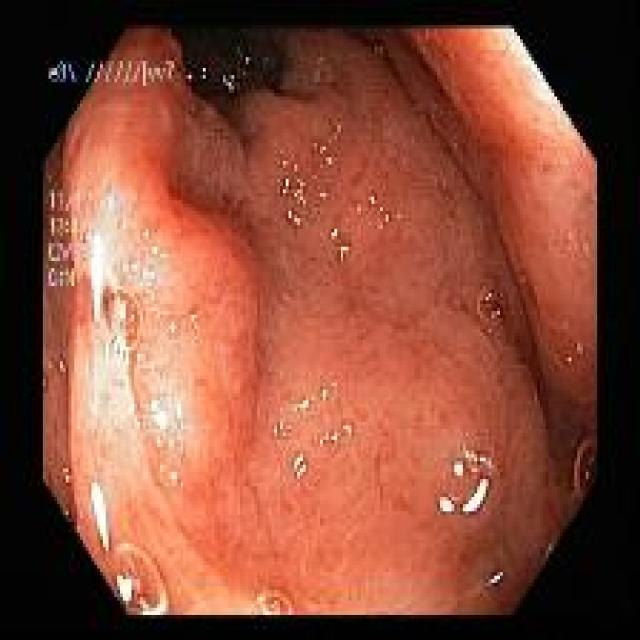ulcerative-colitis: (45, 30, 596, 615)
